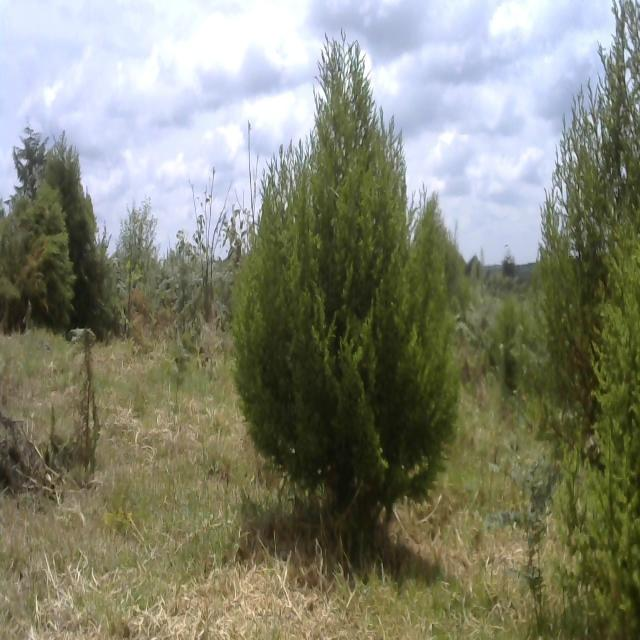cedrus: (234, 40, 459, 543), (536, 2, 640, 440), (592, 238, 640, 640), (0, 127, 75, 331), (45, 131, 116, 338)
other: (116, 200, 158, 328)
